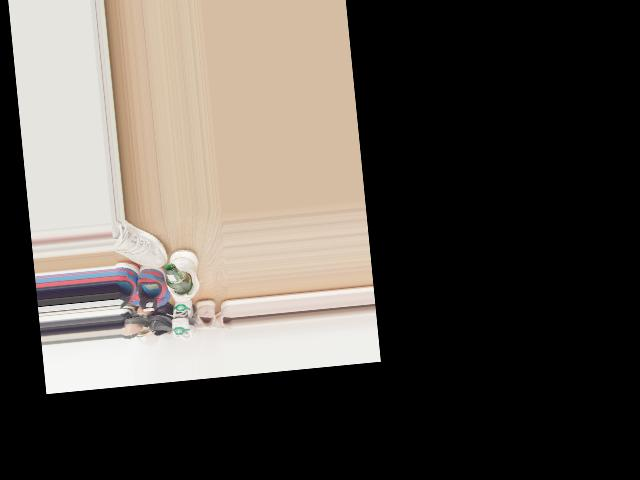beer: (164, 261, 192, 295)
